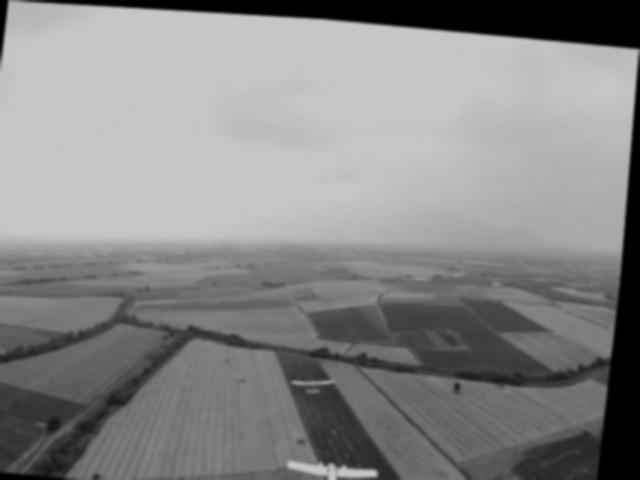hedef: (289, 443, 390, 480)
